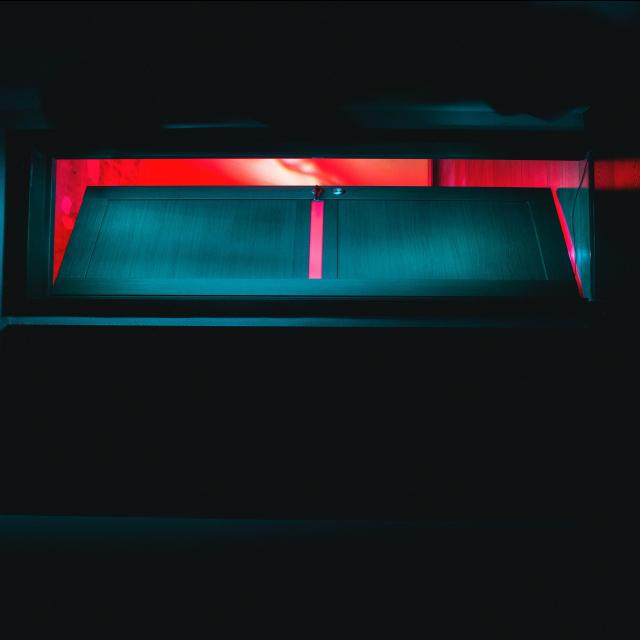open: (33, 148, 590, 306)
